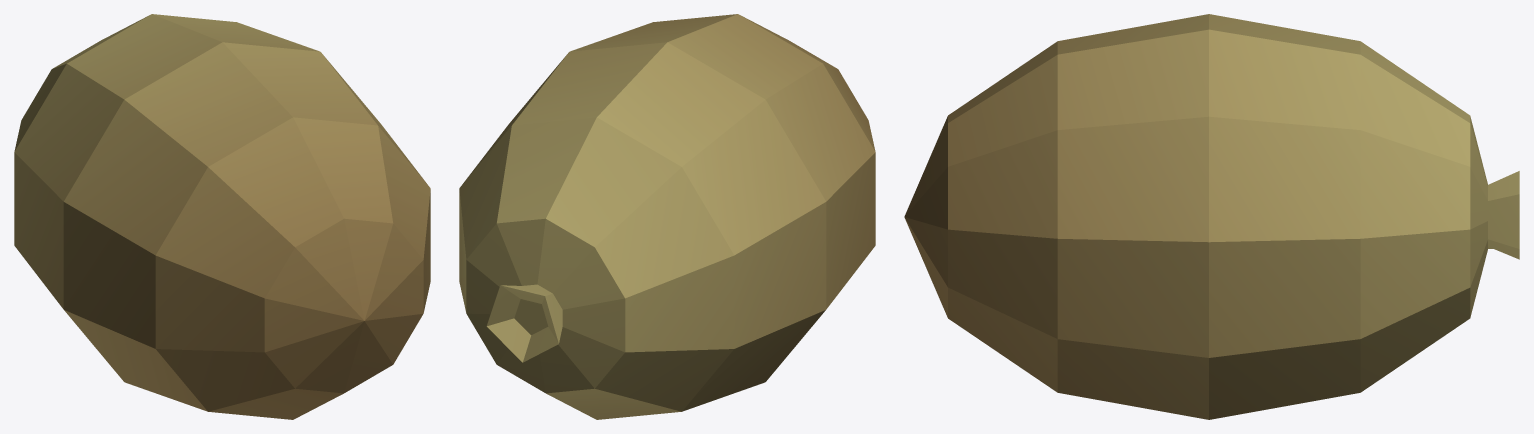
File: Sapodilla.fbx
3 views of the same model, side by side, from view 1: azimuth 30°, elevation 25°; view 2: azimuth 150°, elevation 25°; view 3: azimuth 270°, elevation 25° (orthographic). The views are drawn at different scales.
Visible parts, largest first — view 1: Sapodilla; view 2: Sapodilla; view 3: Sapodilla.
Boxes of the visible parts, box(x1,y1,x2,y2) form: Sapodilla: box(14, 14, 430, 419); Sapodilla: box(459, 14, 875, 419); Sapodilla: box(904, 14, 1519, 419).
Bounding box in the file's own units: 15.54 × 16.34 × 24.31.
